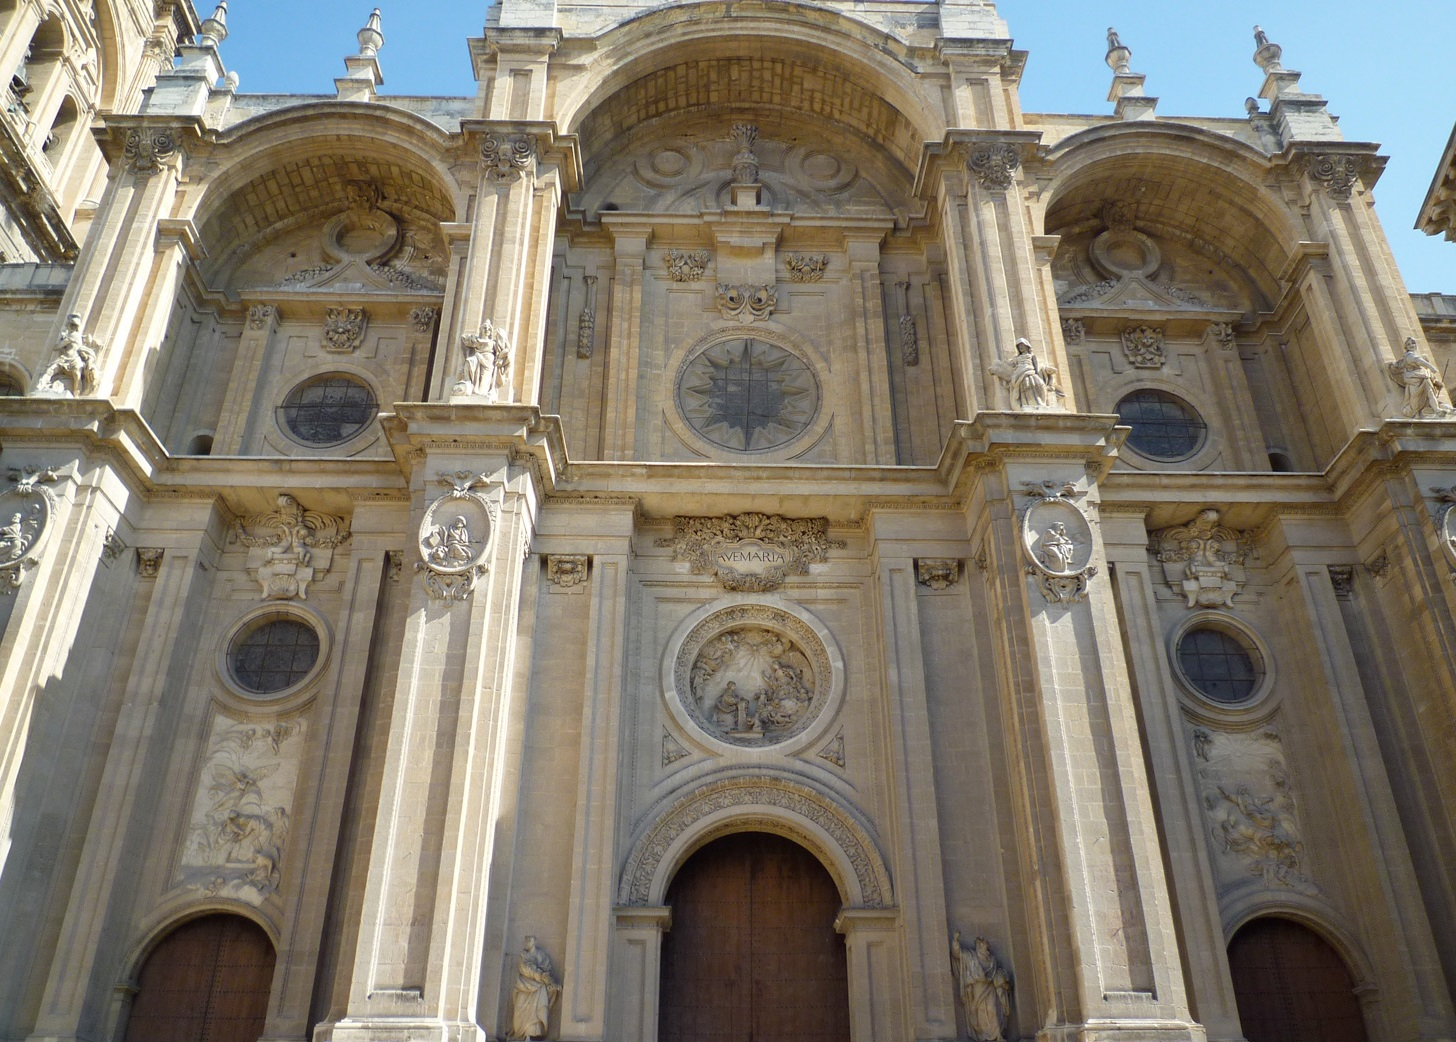arco-medio-punto: (541, 18, 961, 202), (1031, 142, 1329, 284), (175, 129, 464, 266), (646, 813, 873, 957), (116, 897, 277, 1013), (1220, 906, 1382, 1013)
ojo-de-buey: (217, 602, 326, 705), (1164, 608, 1273, 708), (277, 360, 379, 445), (1108, 380, 1210, 463)
